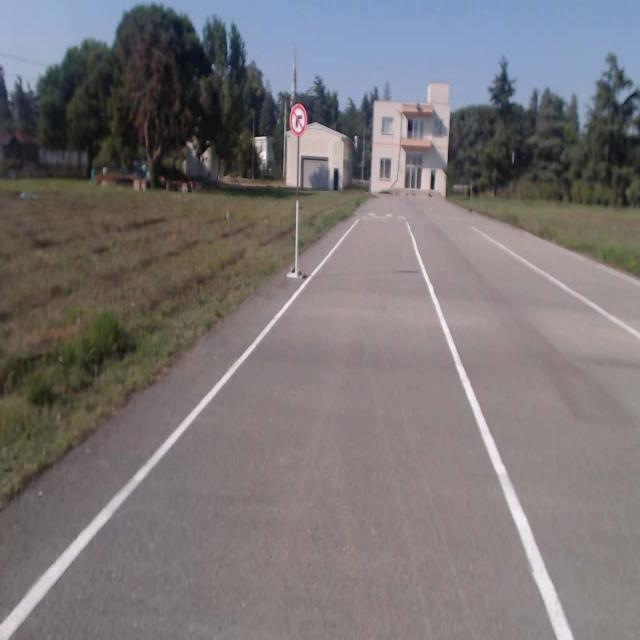sagadonulmez: (289, 105, 307, 136)
